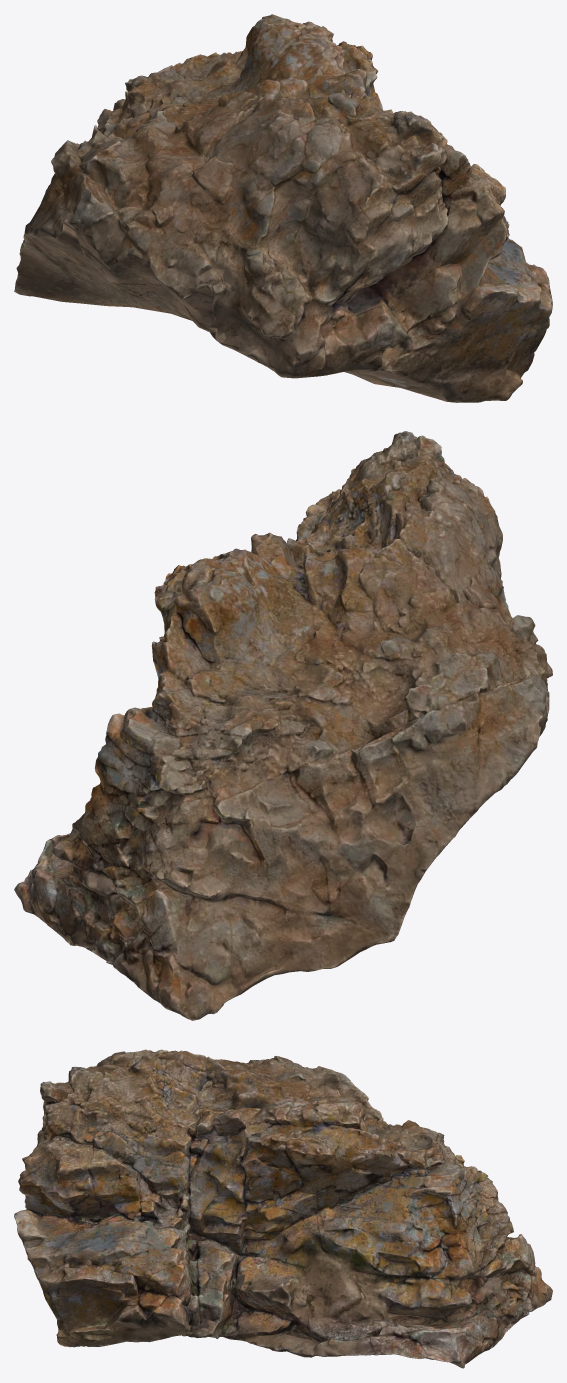
Rendered from boulder_01.glb.
3 renders of one model, top to bottom at view 1: azimuth 30°, elevation 25°; view 2: azimuth 150°, elevation 25°; view 3: azimuth 270°, elevation 25°, orthographic. The views are drawn at different scales.
Parts seen in each view (by area): view 1: boulder_01; view 2: boulder_01; view 3: boulder_01.
Part boxes in pixels (bbox=[...]): boulder_01: bbox=[14, 14, 552, 402]; boulder_01: bbox=[14, 431, 552, 1020]; boulder_01: bbox=[14, 1049, 552, 1368].
Bounding box in the file's own units: 1.27 × 1 × 1.83.
1 material, 1 textured.
